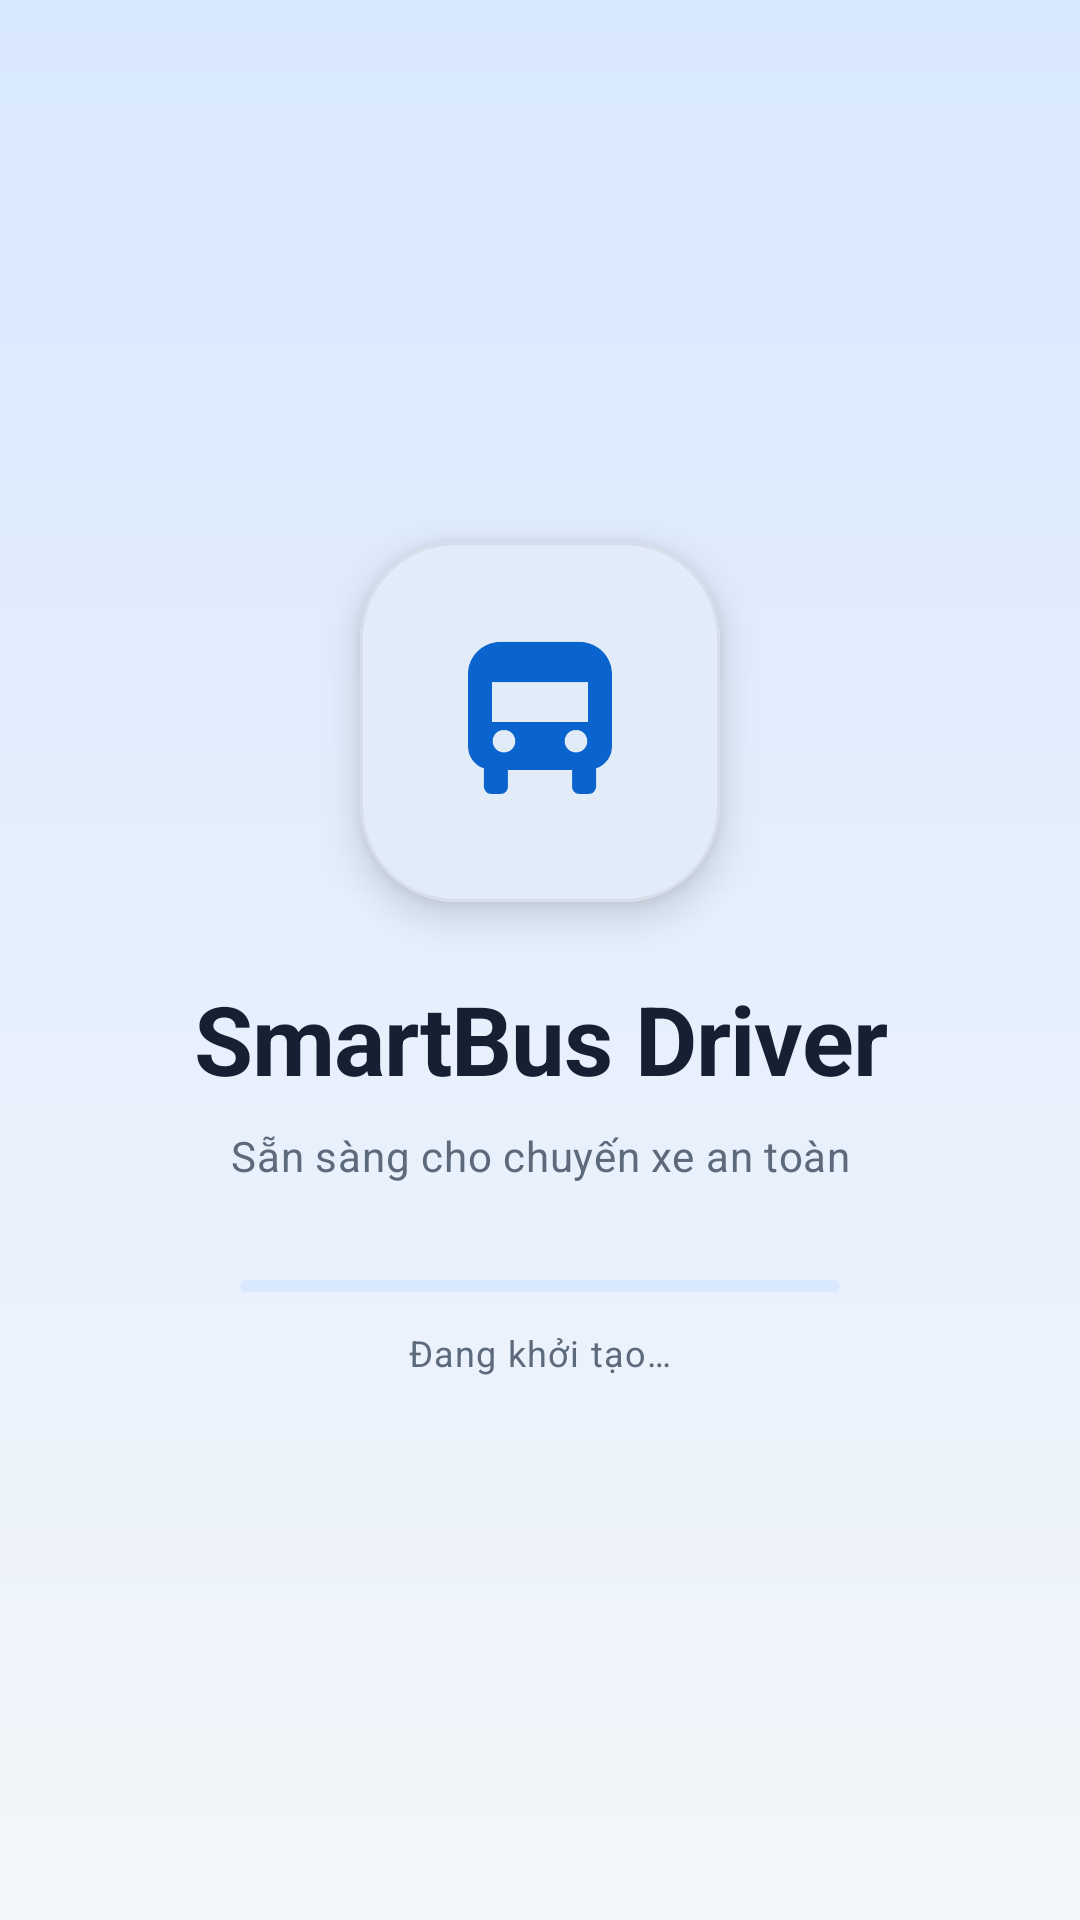

Point at icon controls on the screen. Image size 1080 x 1920, points as [x,y].
bus: [540,718]
